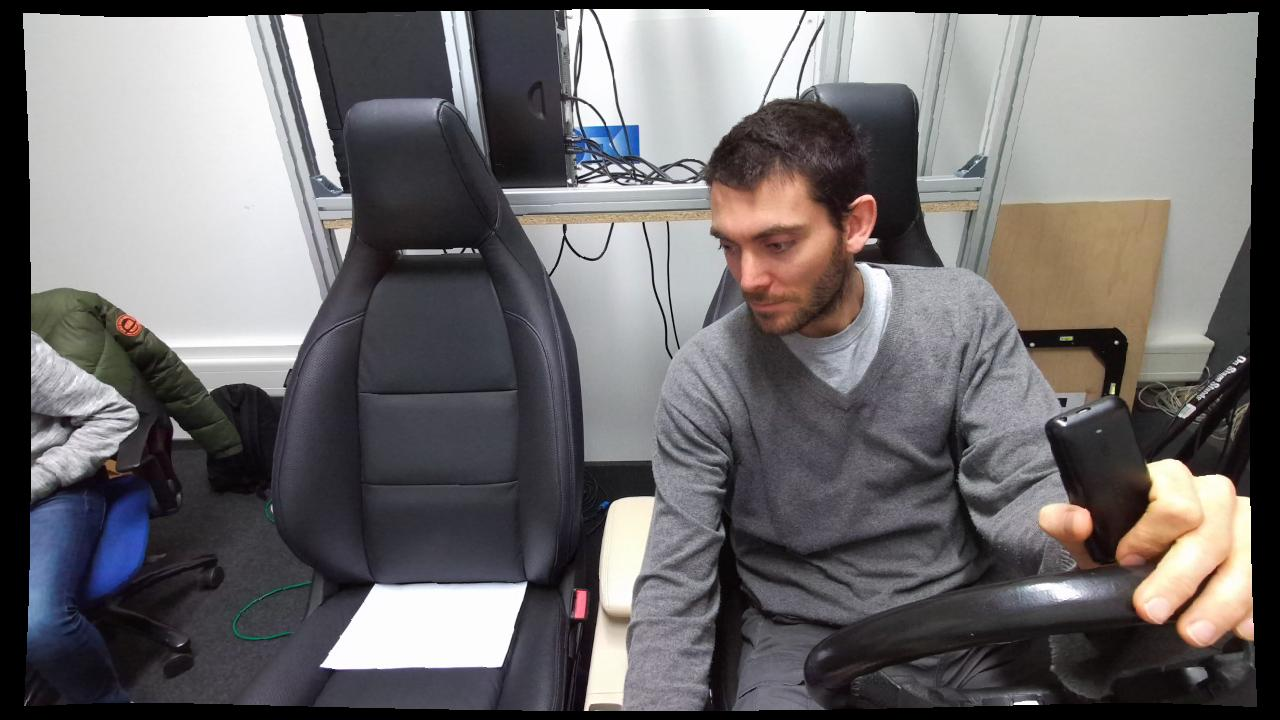Distracted: (622, 100, 1008, 713)
PhoneUse: (1012, 375, 1192, 569)
